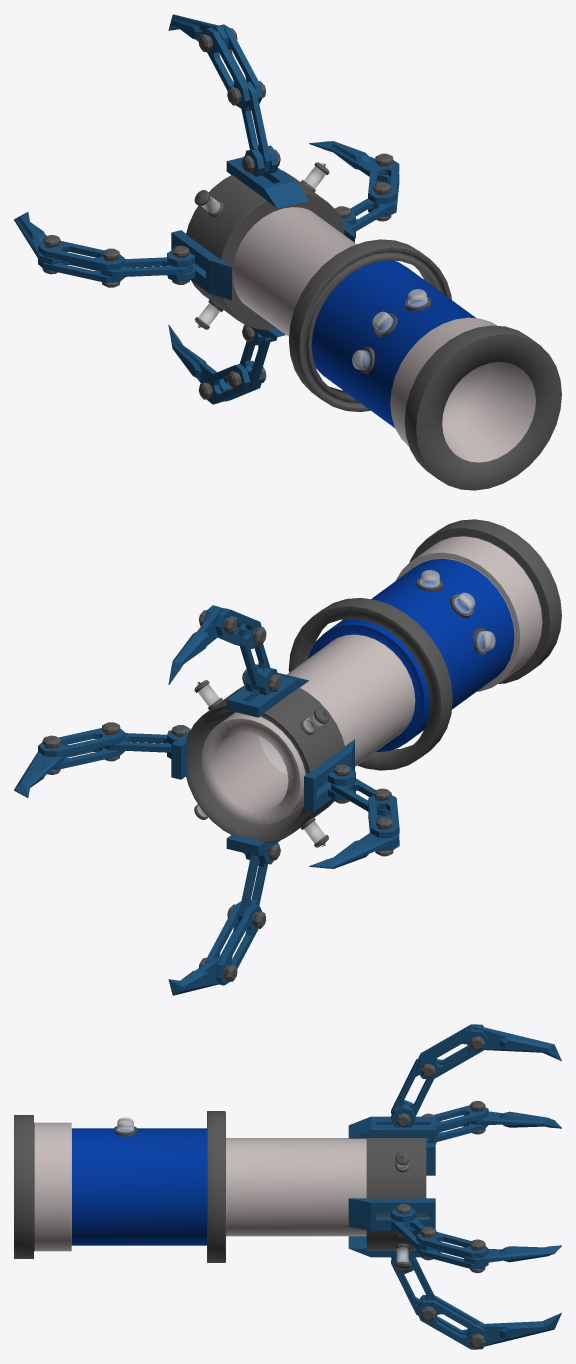
File: Gun.fbx
3 views of the same model, one above another, from view 1: azimuth 30°, elevation 25°; view 2: azimuth 150°, elevation 25°; view 3: azimuth 270°, elevation 25° (orthographic). The views are drawn at different scales.
Parts seen in each view (by area): view 1: Cylinder.001, Cylinder; view 2: Cylinder.001, Cylinder; view 3: Cylinder.001, Cylinder.
Boxes of the visible parts, bbox=[...] form: Cylinder.001: bbox=[232, 207, 561, 490]; Cylinder: bbox=[14, 14, 451, 411]; Cylinder.001: bbox=[201, 519, 561, 825]; Cylinder: bbox=[14, 598, 452, 995]; Cylinder.001: bbox=[14, 1115, 366, 1258]; Cylinder: bbox=[207, 1024, 561, 1349].
Size of the model in its own units: 124 by 124 by 191.
